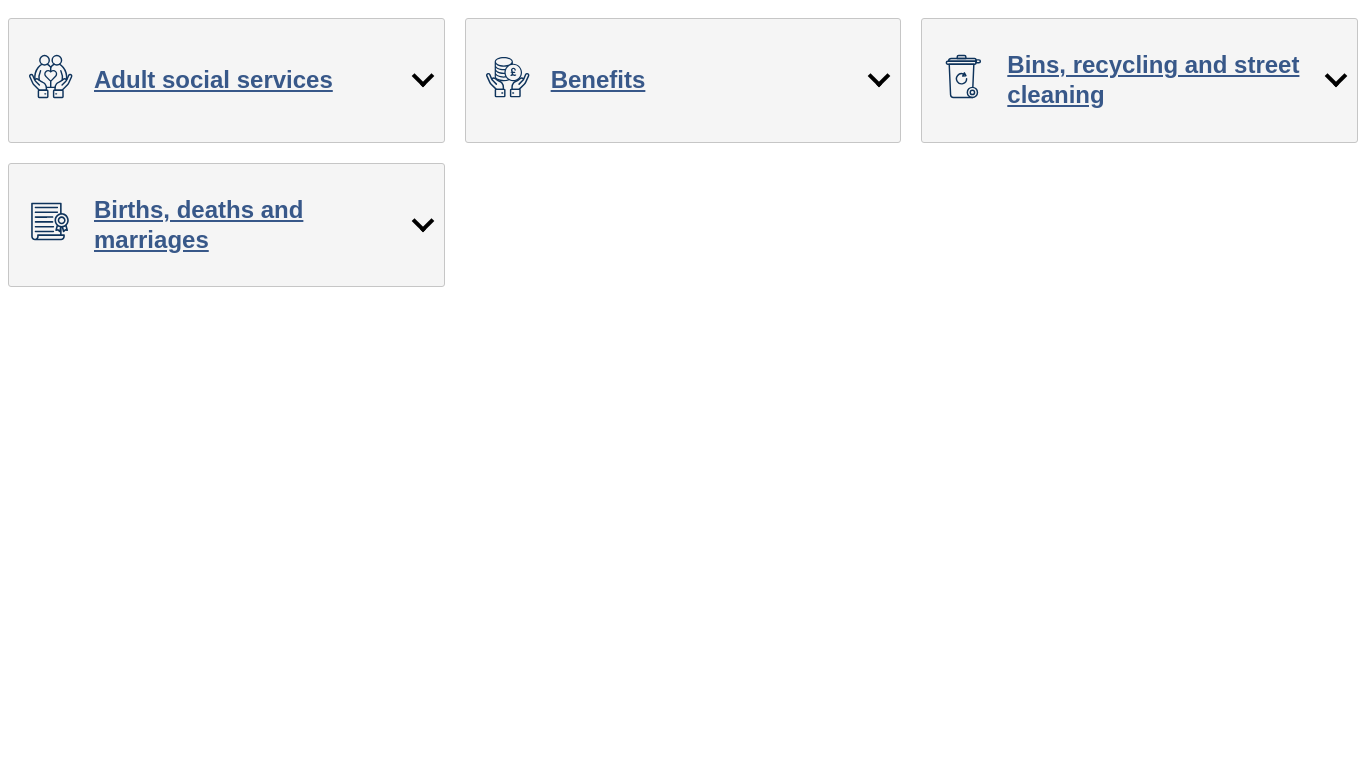
Scenario: Test Component › should show and hide the quicklinks
Expected: the text "Report a concern about an adult" is not shown
Expected: the text "Professionals working with adults" is not shown
Click the button "Adult social services" at (226, 80), box [8,18,445,142]
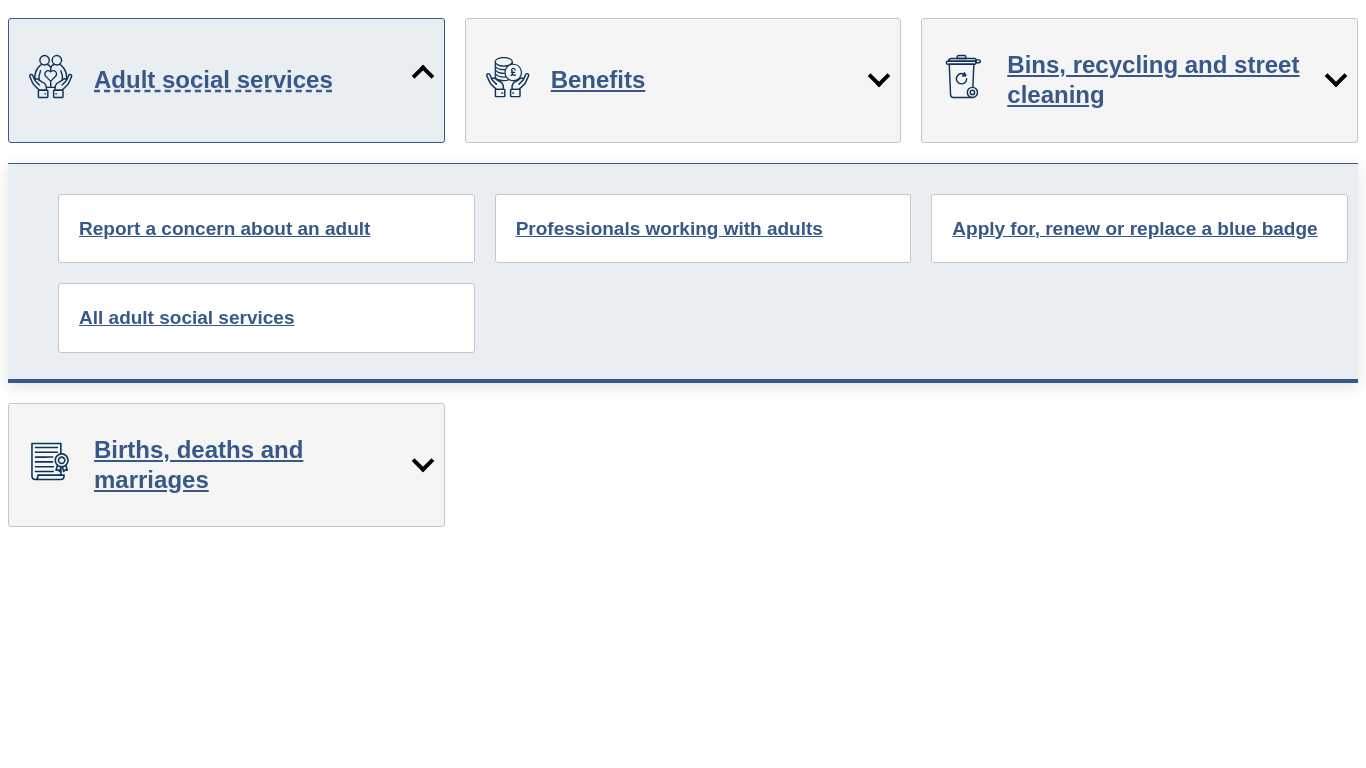
Expected: the link "Report a concern about an adult" is shown, [58,194,475,263]
Expected: the link "Professionals working with adults" is shown, [495,194,911,263]
Expected: the link "All adult social services" is shown, [58,283,475,353]
Click the button "Adult social services" at (226, 80), box [8,18,445,142]
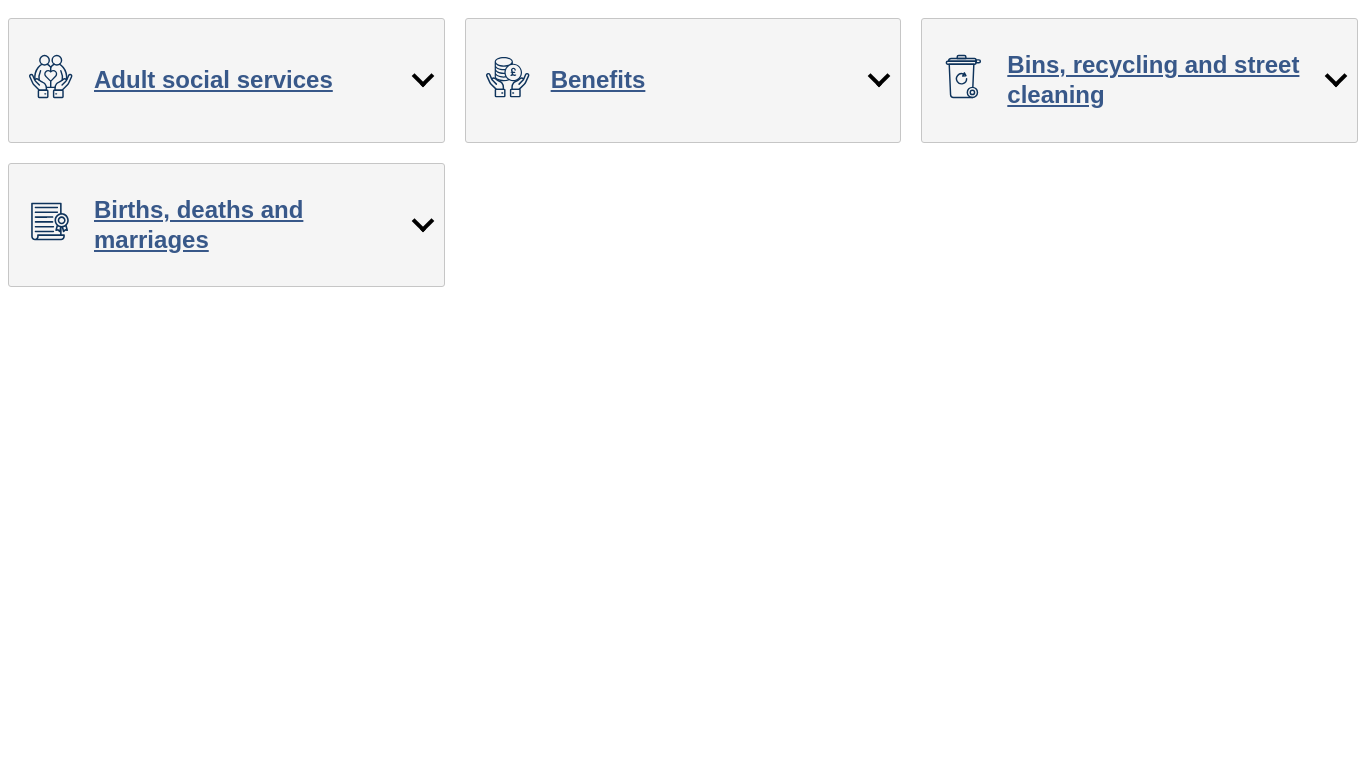
Expected: the link "Report a concern about an adult" is gone
Expected: the link "Professionals working with adults" is gone
Expected: the link "All adult social services" is gone
